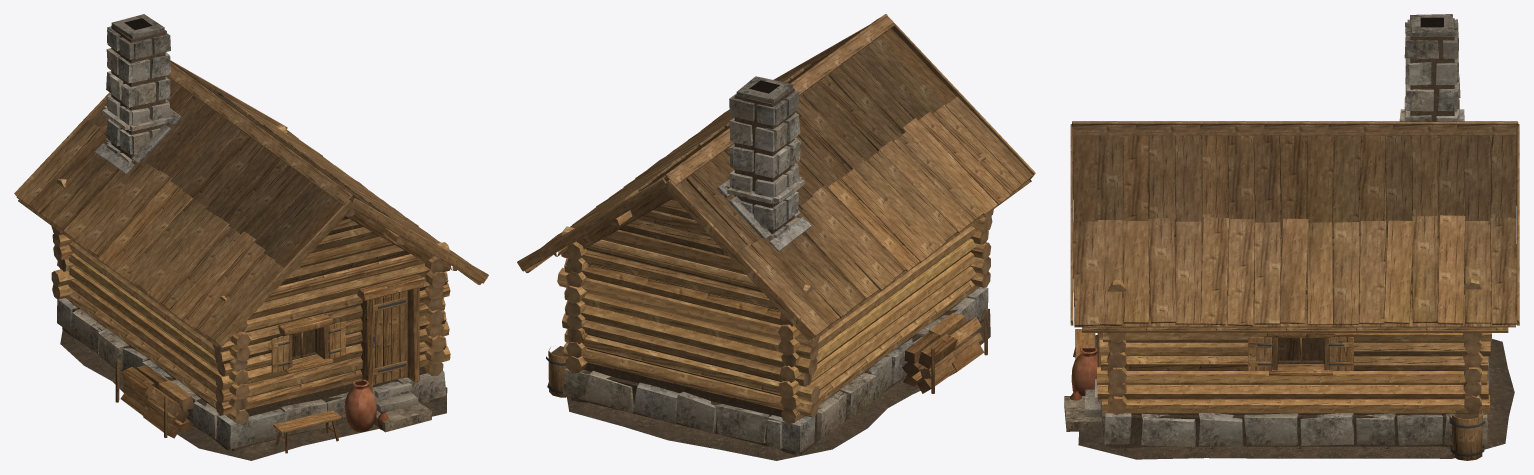
The model's file is village-house-1-lite-v3b.glb.
3 renders of one model, left to right at view 1: azimuth 30°, elevation 25°; view 2: azimuth 150°, elevation 25°; view 3: azimuth 270°, elevation 25°, orthographic. The views are drawn at different scales.
Parts seen in each view (by area): view 1: village-house-1; view 2: village-house-1; view 3: village-house-1.
Part boxes in pixels (bbox=[...]): village-house-1: bbox=[14, 14, 488, 460]; village-house-1: bbox=[517, 14, 1035, 460]; village-house-1: bbox=[1064, 14, 1519, 460].
Size of the model in its own units: 6.08 by 6.53 by 7.8.
6 materials, 5 textured.
